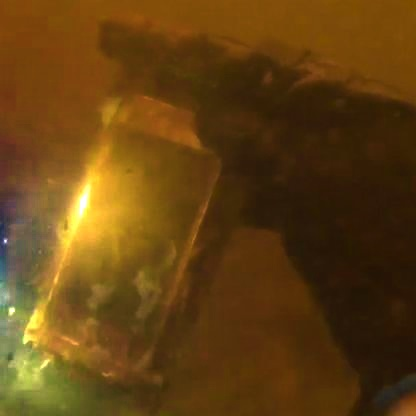cellphone: (26, 94, 224, 382)
